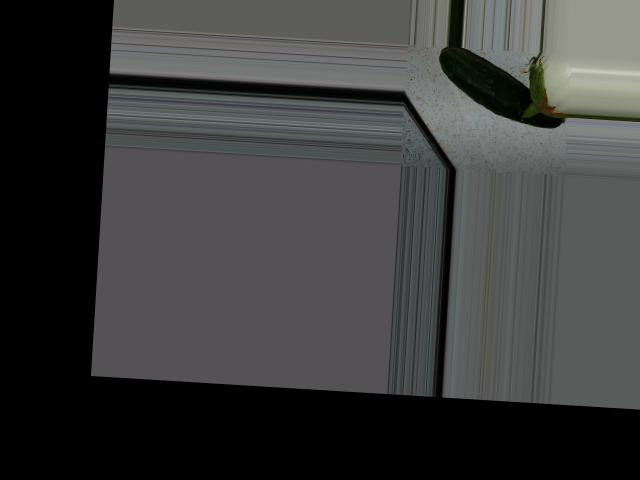cucumber: (435, 45, 569, 128)
